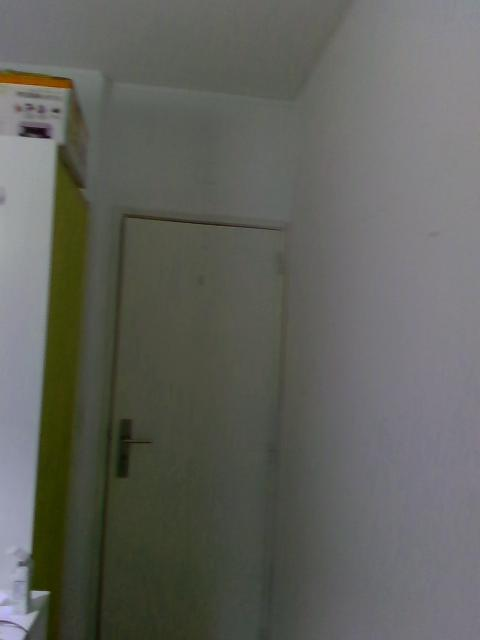closed_door: (89, 211, 283, 638)
